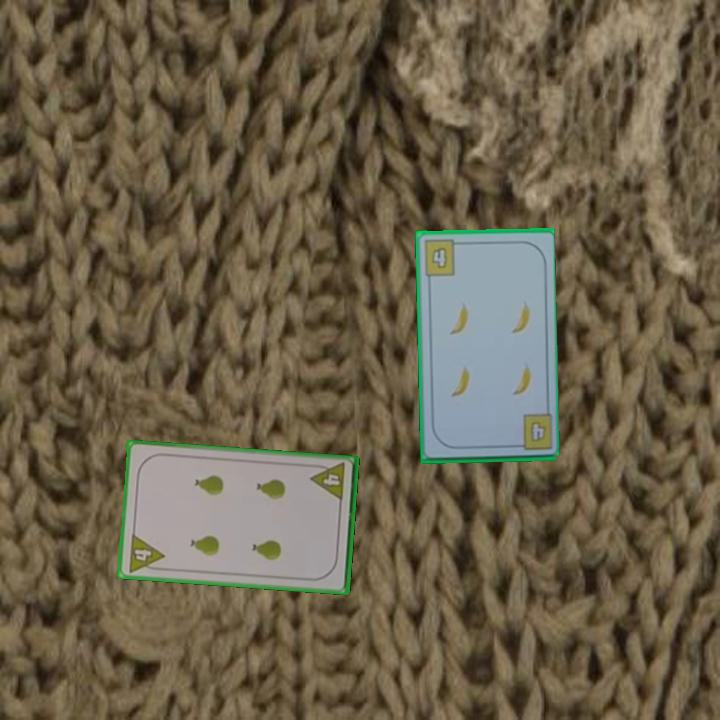4b: (420, 236, 464, 279), (528, 420, 547, 443)
4p: (125, 530, 167, 575), (308, 459, 348, 504)
